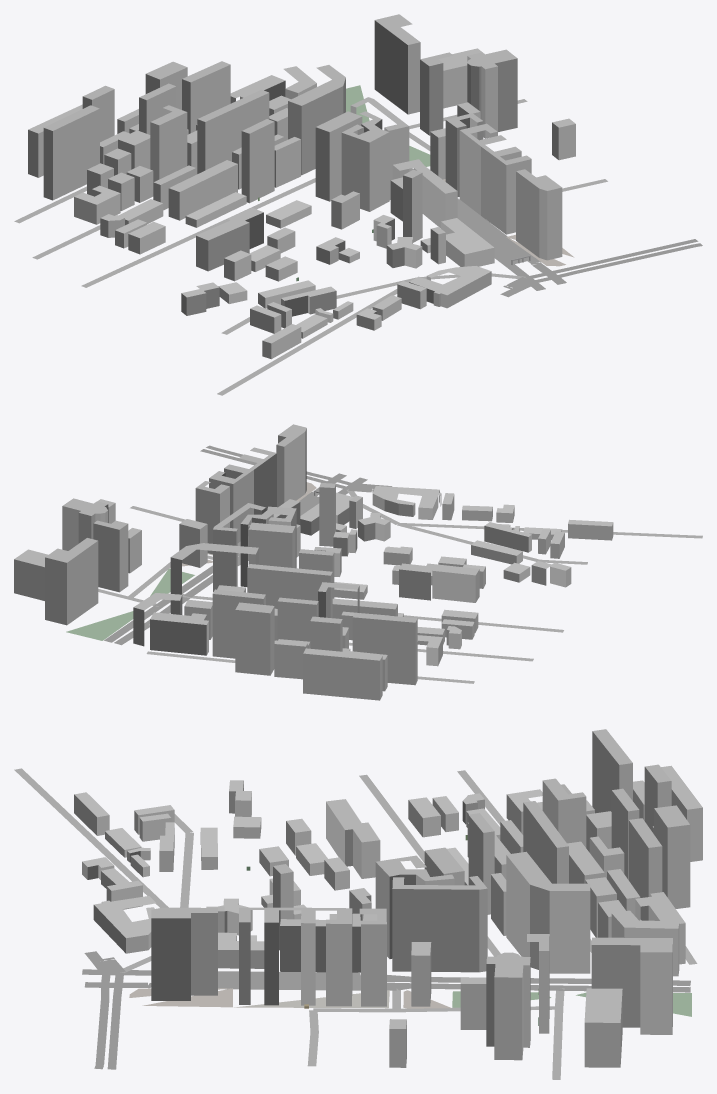
The picture shows the model from 3 angles, top to bottom: view 1: azimuth 30°, elevation 25°; view 2: azimuth 150°, elevation 25°; view 3: azimuth 270°, elevation 25°; orthographic projection. The views are drawn at different scales.
Bounding box in the file's own units: 604 × 76.41 × 567.
